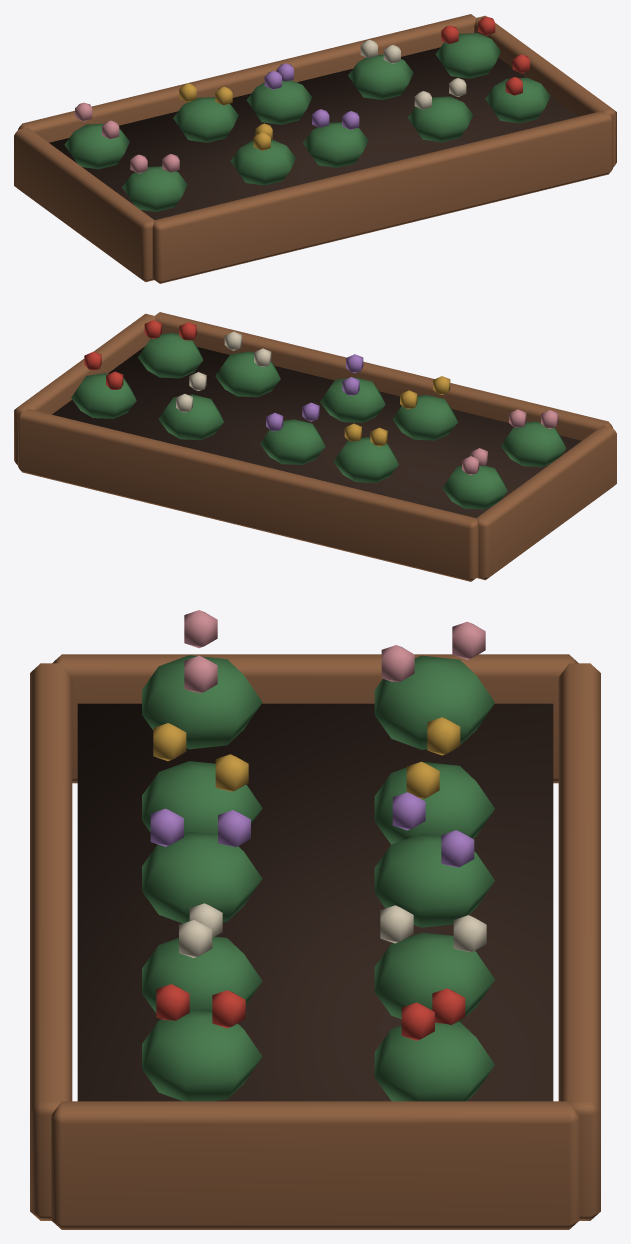
Rendered from flower_bed.glb.
3 views of the same model, one above another, from view 1: azimuth 30°, elevation 25°; view 2: azimuth 150°, elevation 25°; view 3: azimuth 270°, elevation 25° (orthographic). The views are drawn at different scales.
Parts seen in each view (by area): view 1: flower_bed; view 2: flower_bed; view 3: flower_bed.
Part boxes in pixels (<box>): flower_bed: <box>14,14,616,283</box>; flower_bed: <box>14,312,616,581</box>; flower_bed: <box>30,610,600,1229</box>.
Bounding box in the file's own units: 2.08 × 0.4 × 1.08.
